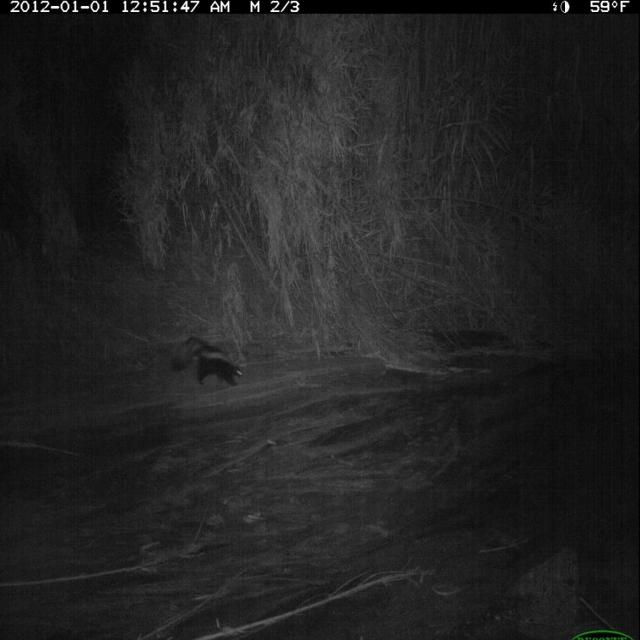skunk: (170, 331, 251, 398)
